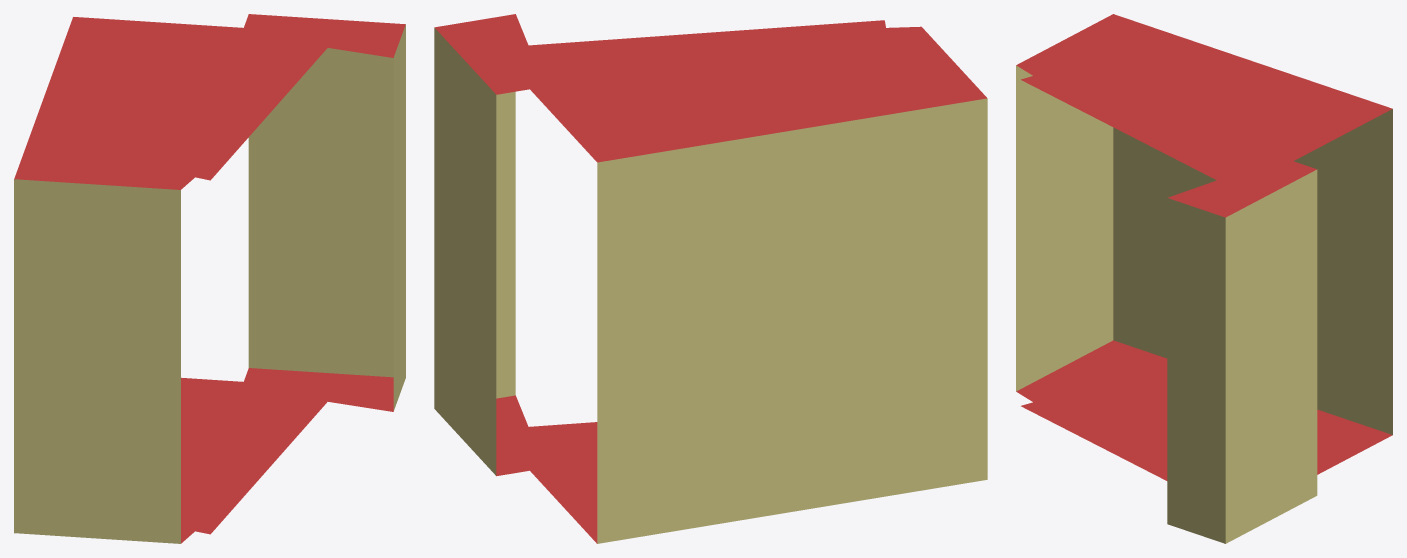
The picture shows the model from 3 angles, left to right: view 1: azimuth 30°, elevation 25°; view 2: azimuth 150°, elevation 25°; view 3: azimuth 270°, elevation 25°; orthographic projection. The views are drawn at different scales.
Size of the model in its own units: 8.99 by 7.03 by 6.72.
